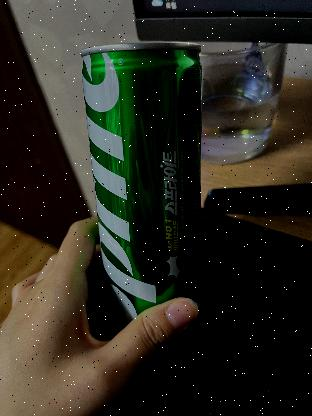Can: (81, 41, 204, 323)
